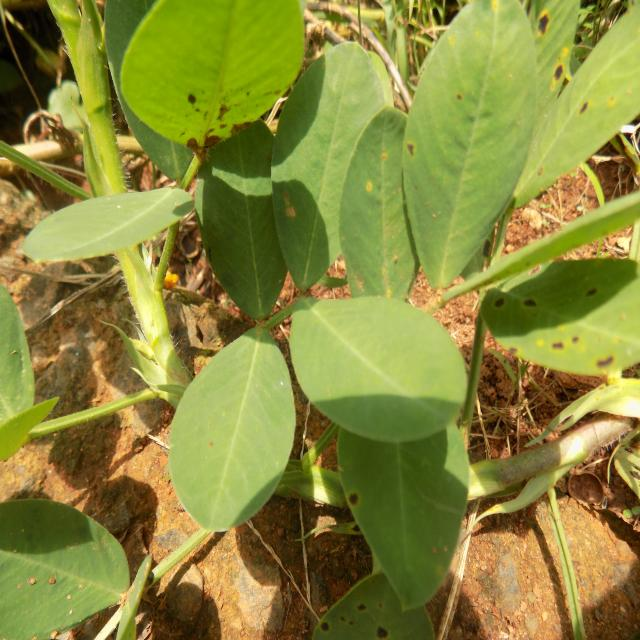Ground nut_healthy: (166, 328, 301, 532), (292, 290, 468, 438)
